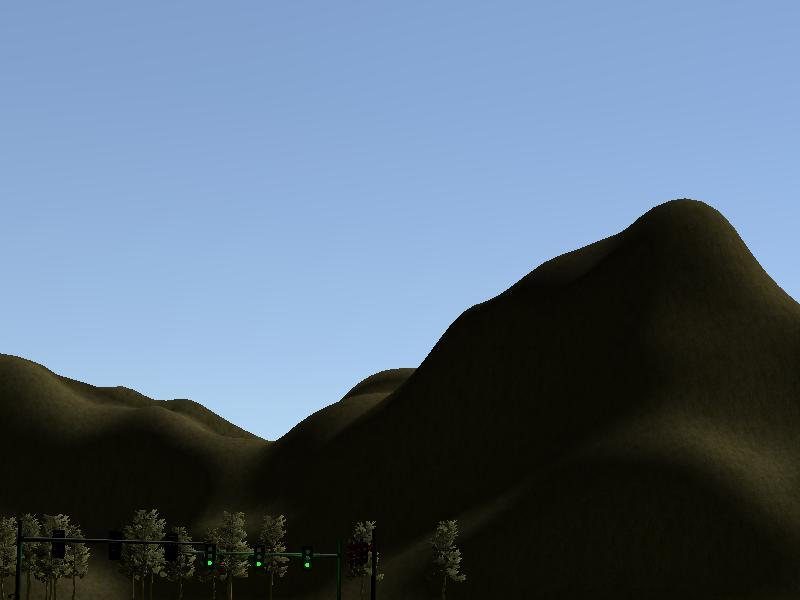Green: (204, 543, 217, 571), (301, 541, 313, 571), (254, 542, 264, 570)
